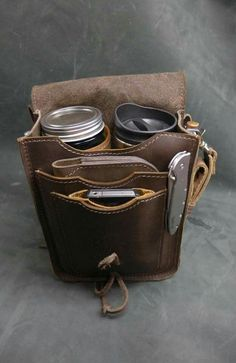cuero: (19, 70, 201, 284)
